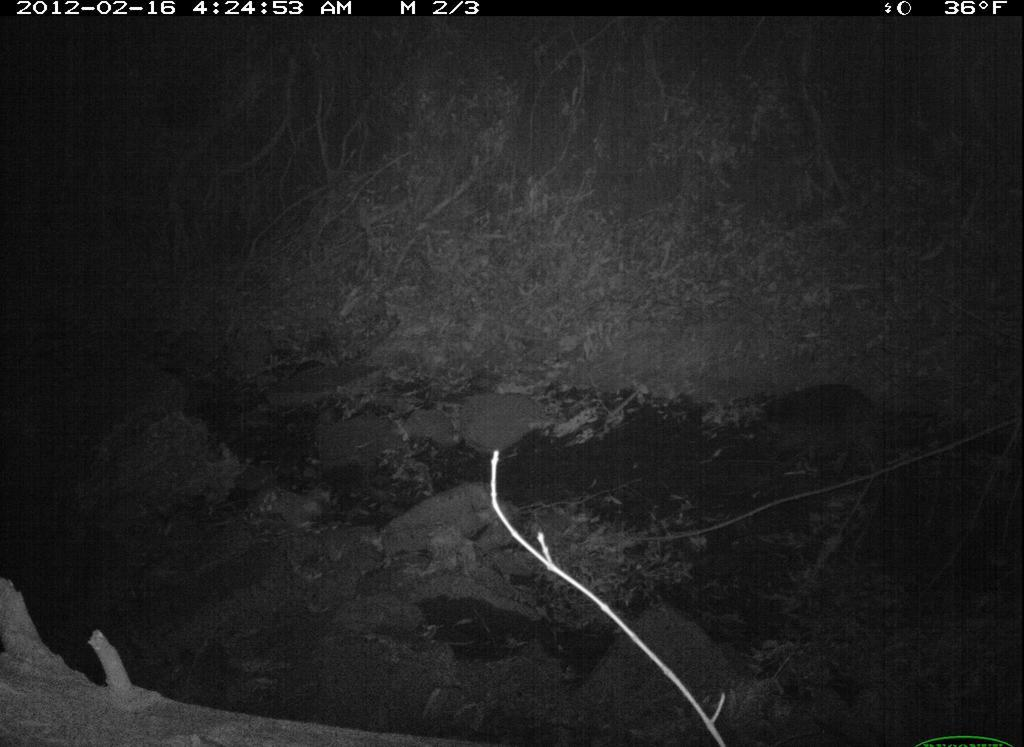raccoon: (735, 372, 907, 500)
